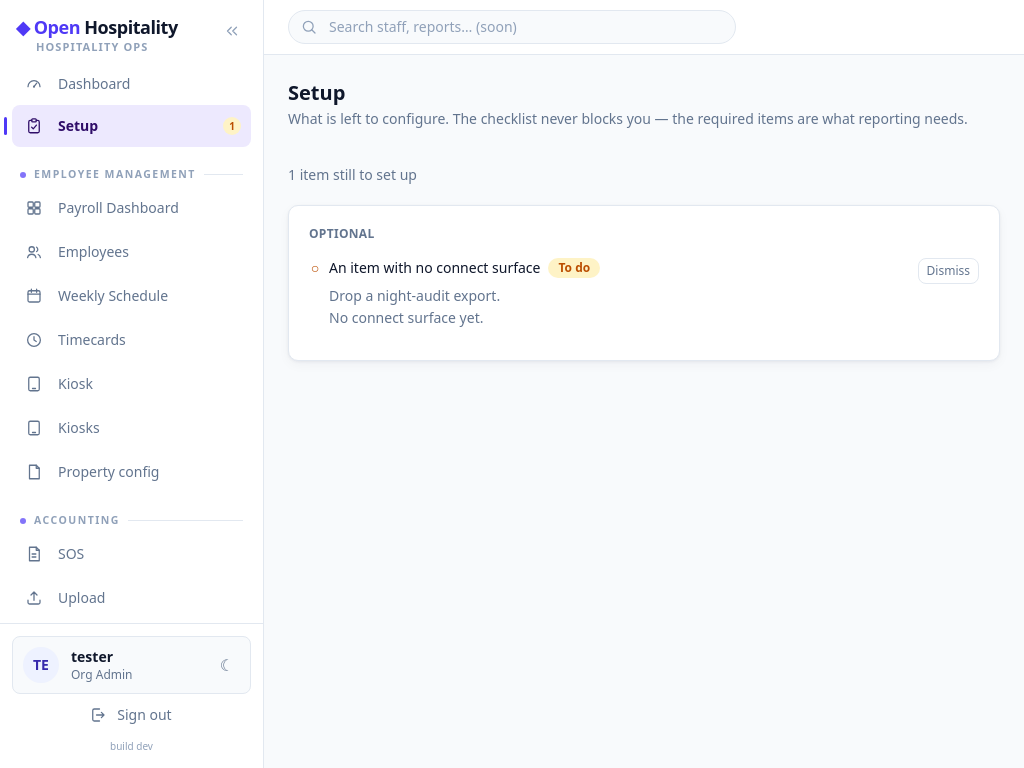
Test: ChecklistPage — dismissal › an org admin can dismiss an optional item, and the list refetches
The width and height of the screenshot is (1024, 768).
Click the button with aria-label "dismiss an item with no connect surface" at (948, 271), box [918,258,979,284]
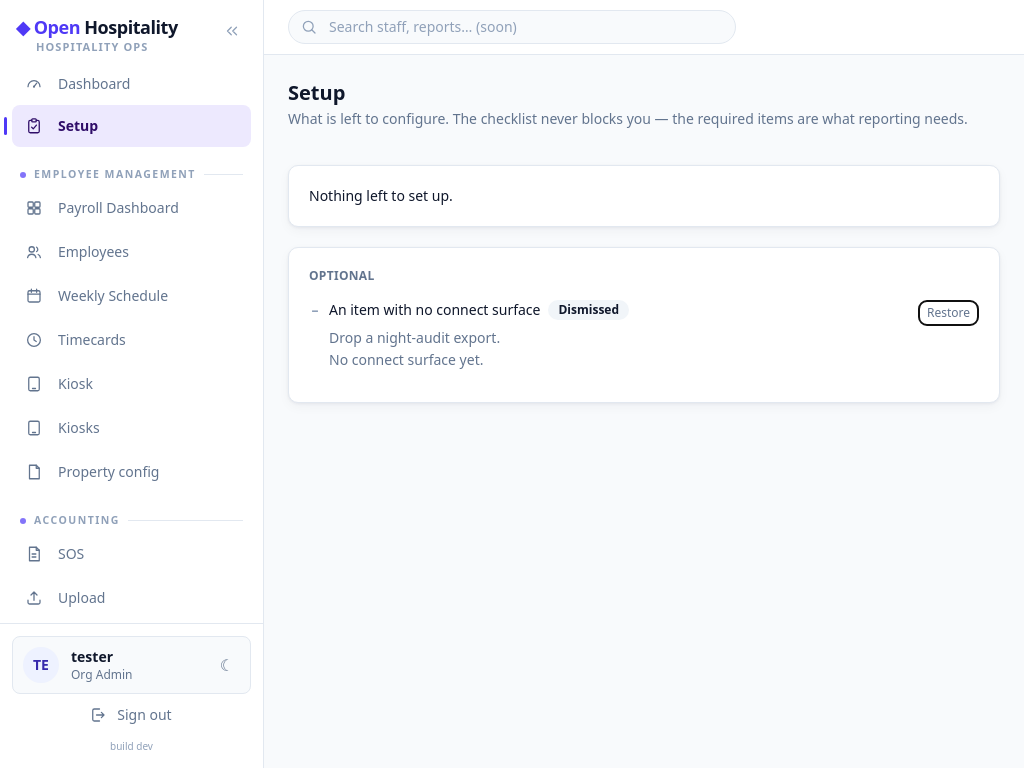
Check: the button with aria-label "restore an item with no connect surface" is shown, box [918,300,979,326]
